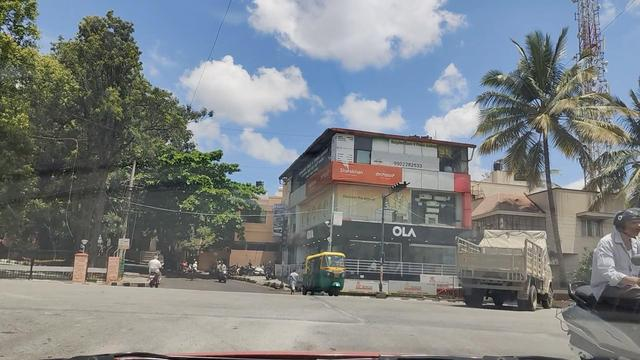HMV: (462, 227, 537, 302)
LMV: (303, 248, 342, 293)
RoadDamages: (310, 294, 367, 327)
